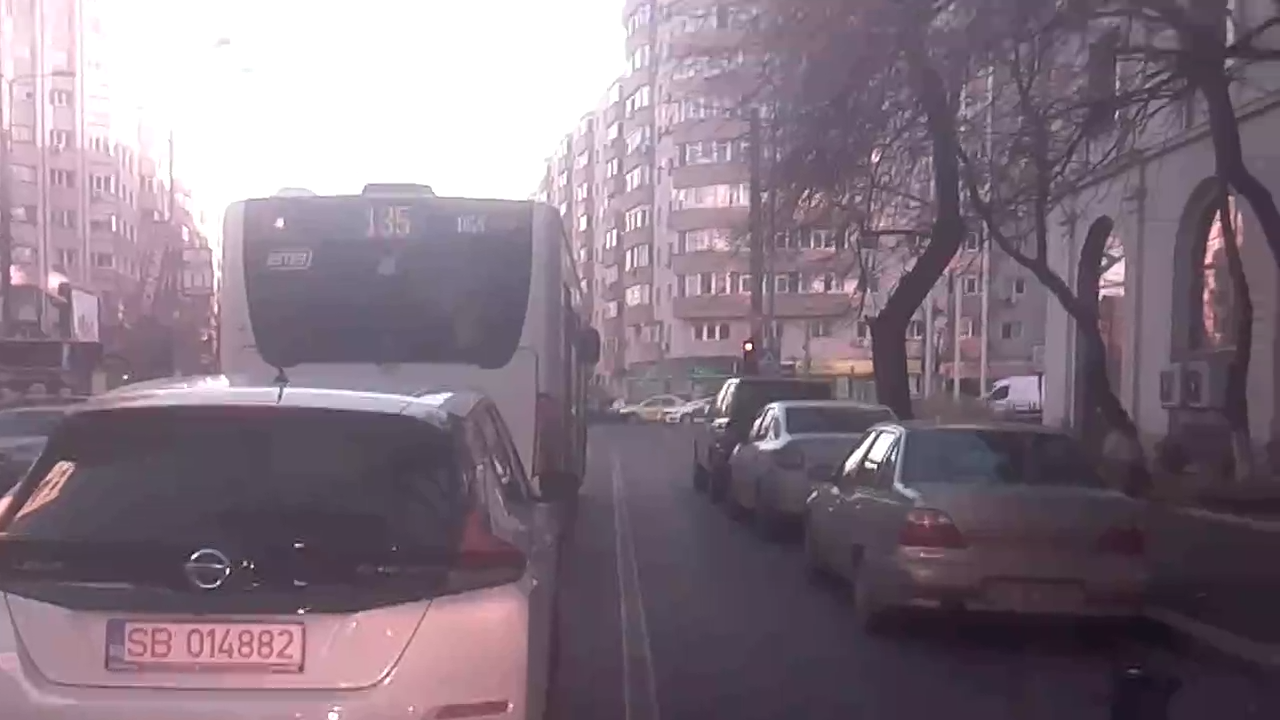license-plate: (97, 608, 310, 679)
